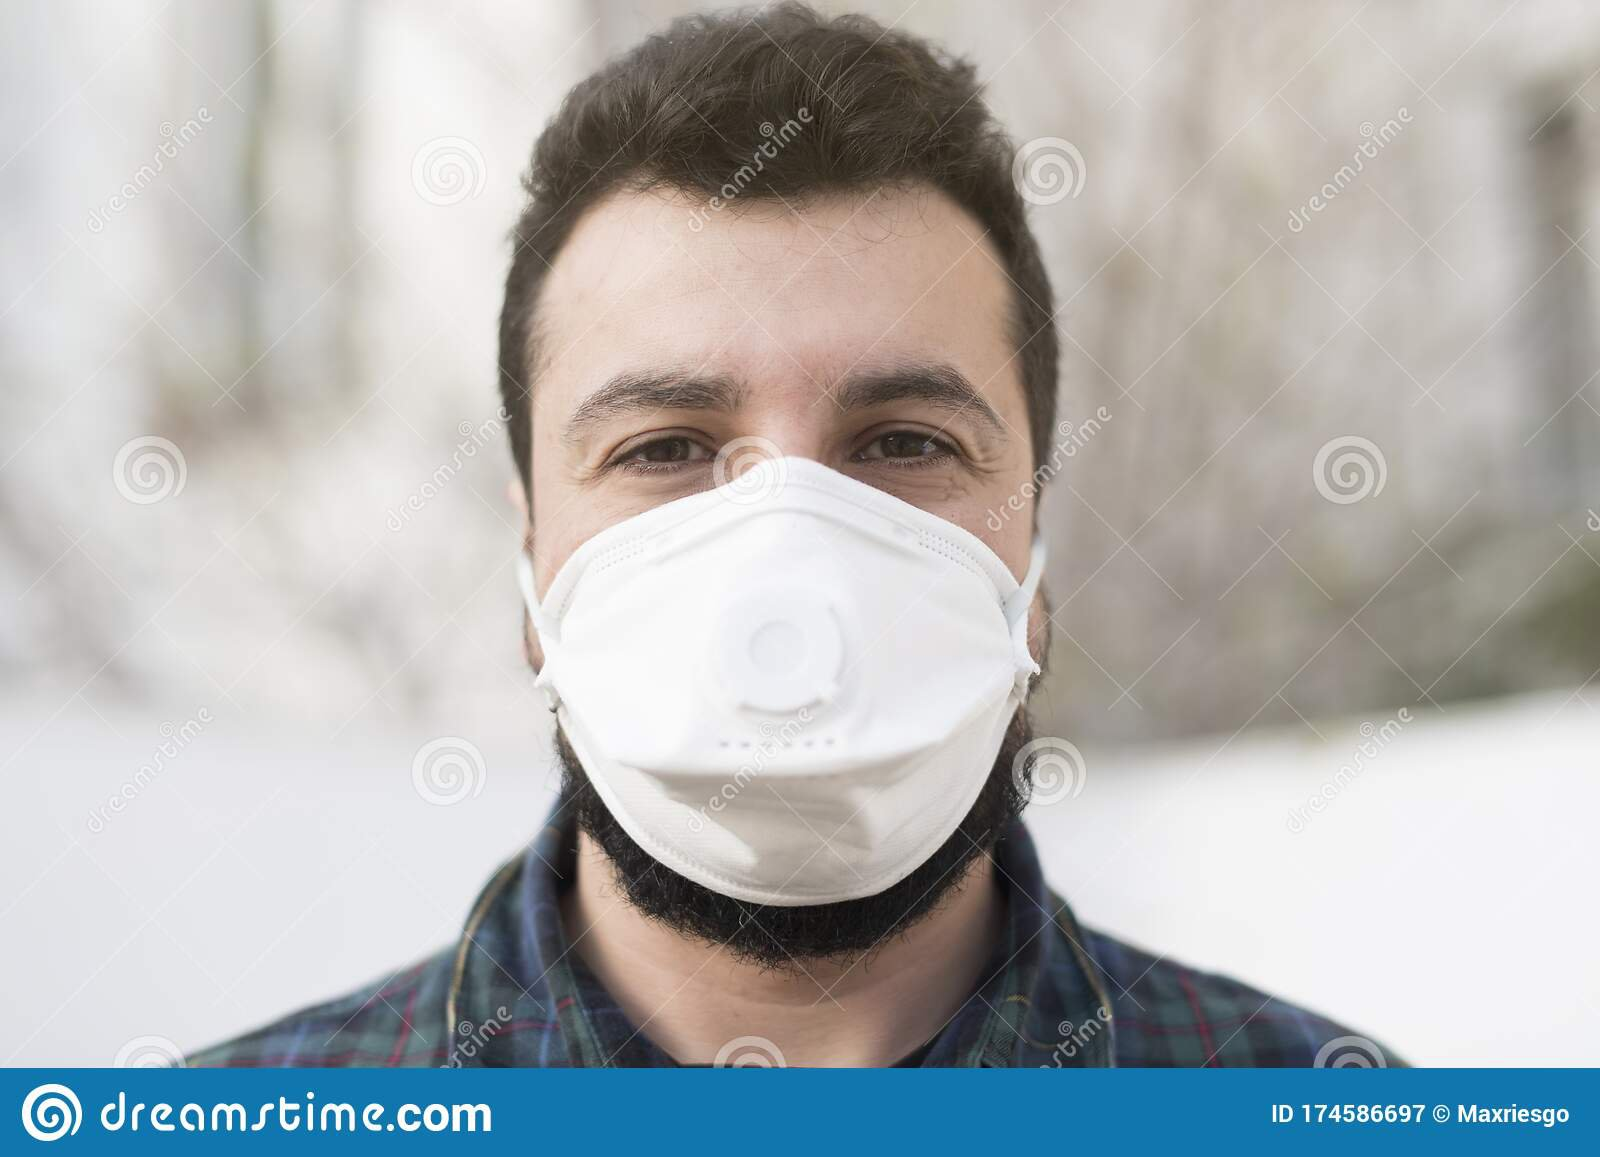mask: (468, 9, 1097, 972)
